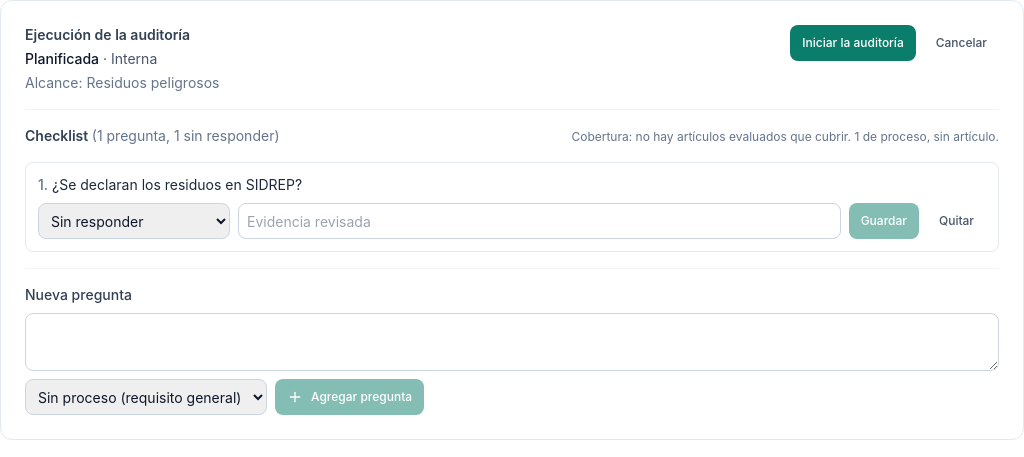
Test: avanzar la auditoría › iniciar pide la transición a la API y avisa el estado confirmado
Expected: the text "¿Se declaran los residuos en SIDREP?" is shown, [52,176,302,193]
Click the button "Iniciar la auditoría": (853, 43) [790,25,916,61]
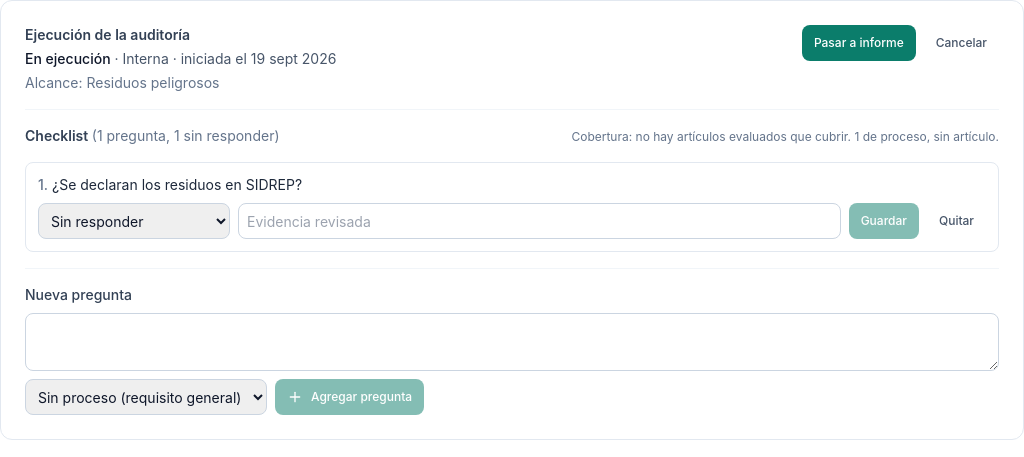
Now the button "Pasar a informe" is shown, box [802,25,916,61]
